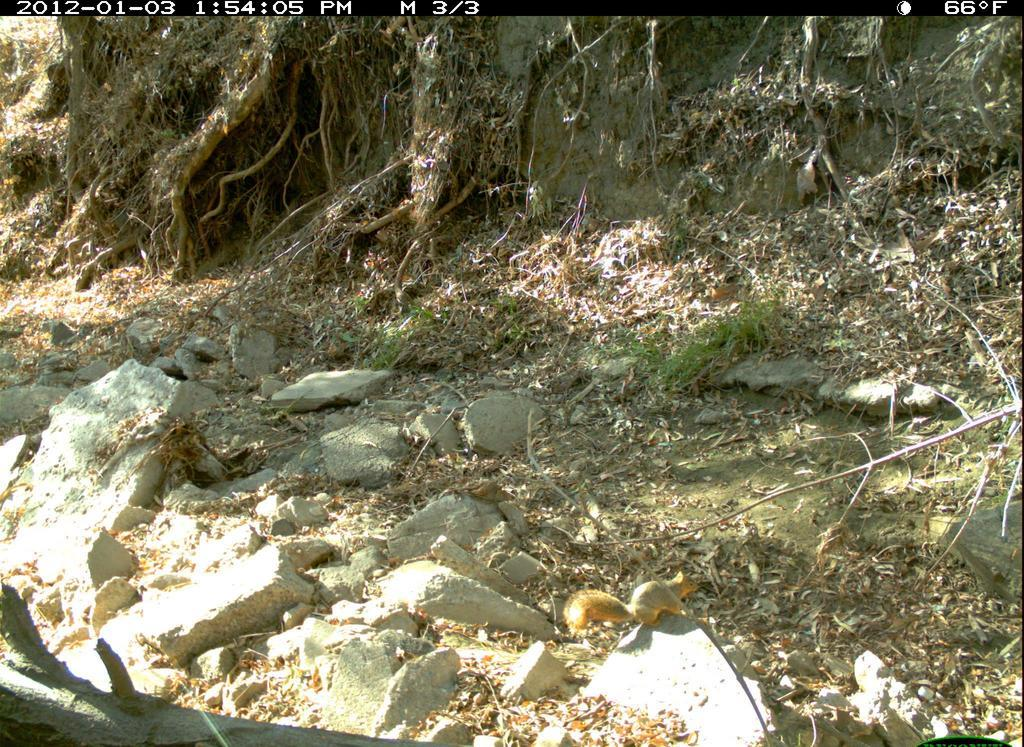squirrel: (560, 566, 702, 644)
